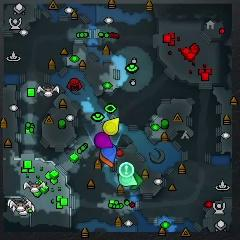Other: (118, 162, 134, 177)
p1: (101, 144, 117, 164)
p2: (119, 171, 137, 186)
p3: (95, 132, 113, 148)
p4: (103, 117, 120, 136)
p5: (99, 151, 113, 168)
x4: (130, 171, 143, 190)
